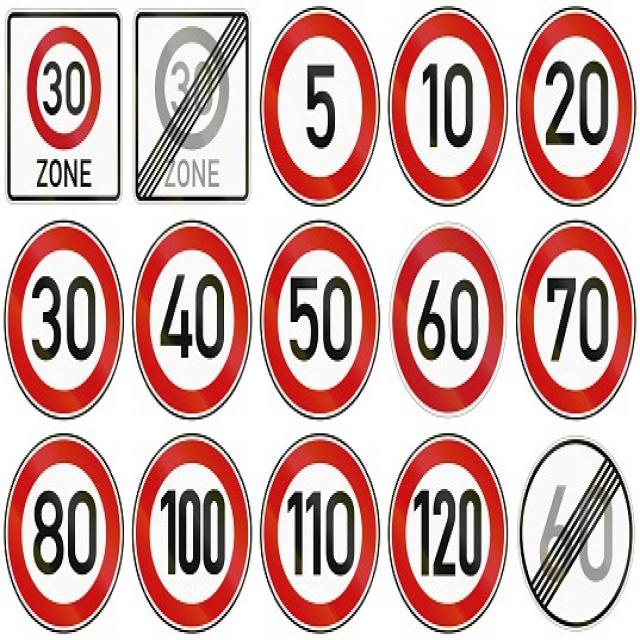speed_limit_100: (132, 428, 255, 640)
speed_limit_120: (388, 428, 512, 634)
speed_limit_20: (513, 1, 640, 210)
speed_limit_30: (1, 219, 125, 421)
speed_limit_50: (257, 217, 385, 420)
speed_limit_60: (388, 220, 509, 417)
speed_limit_70: (514, 216, 638, 424)
speed_limit_80: (3, 426, 127, 632)
